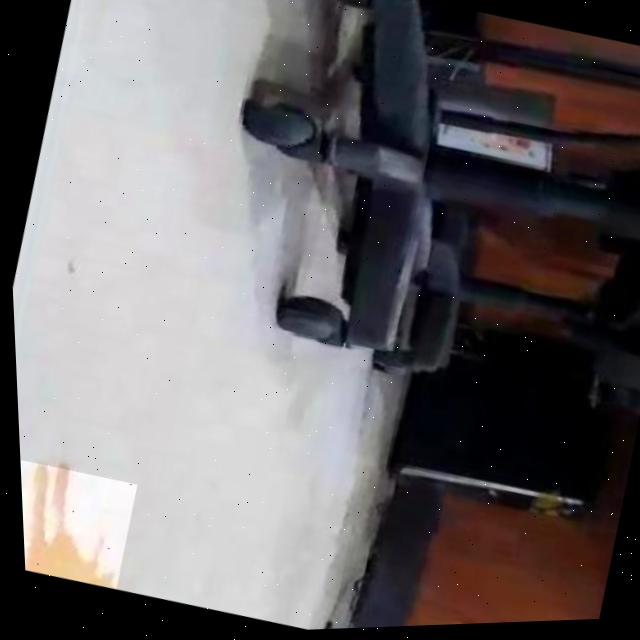spillage: (19, 465, 108, 589)
